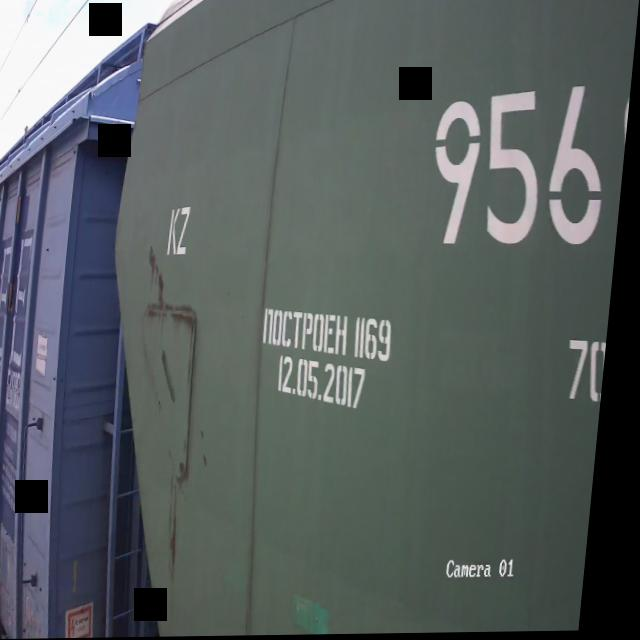boxcar: (0, 9, 180, 640)
hopper: (81, 0, 640, 638)
